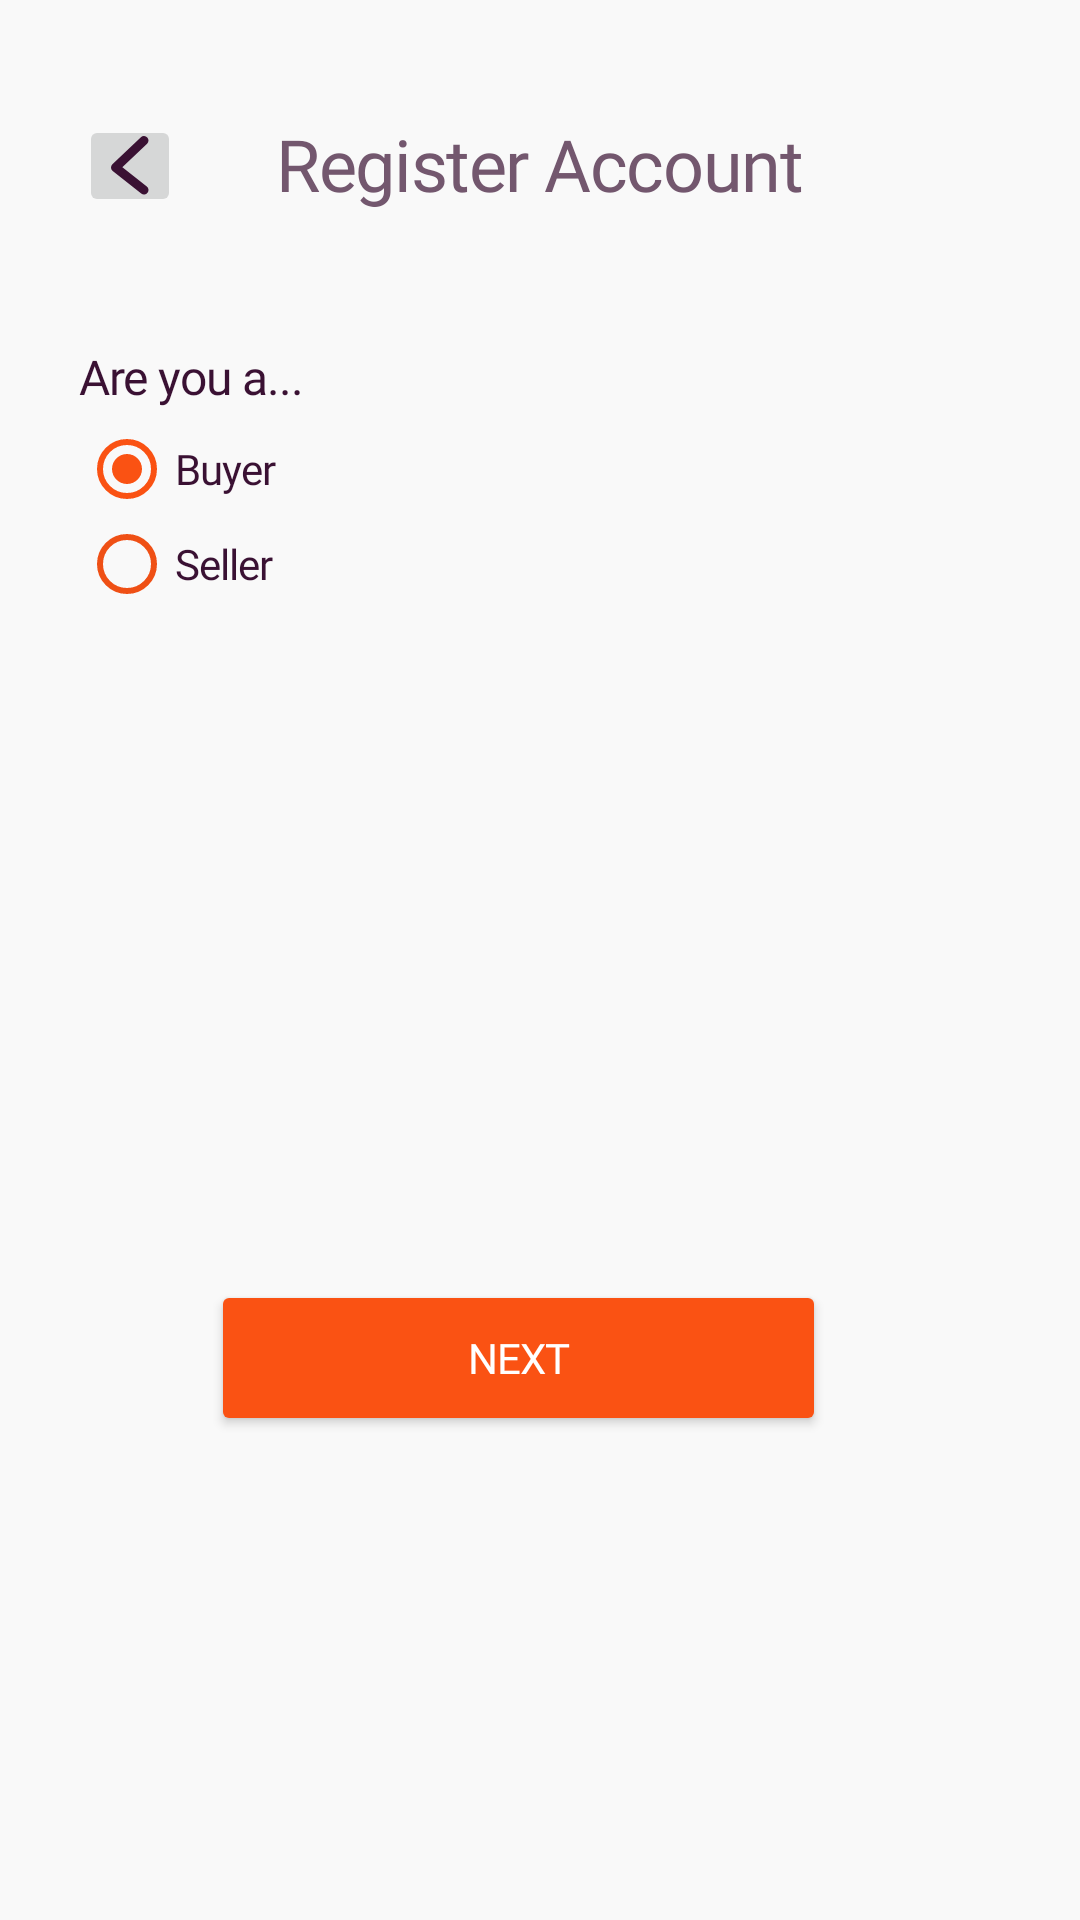

Icons on this 1080px×1920px Android screen, each with its box as (x1, y1, x2, y2):
back chevron: (91, 133, 169, 199)
